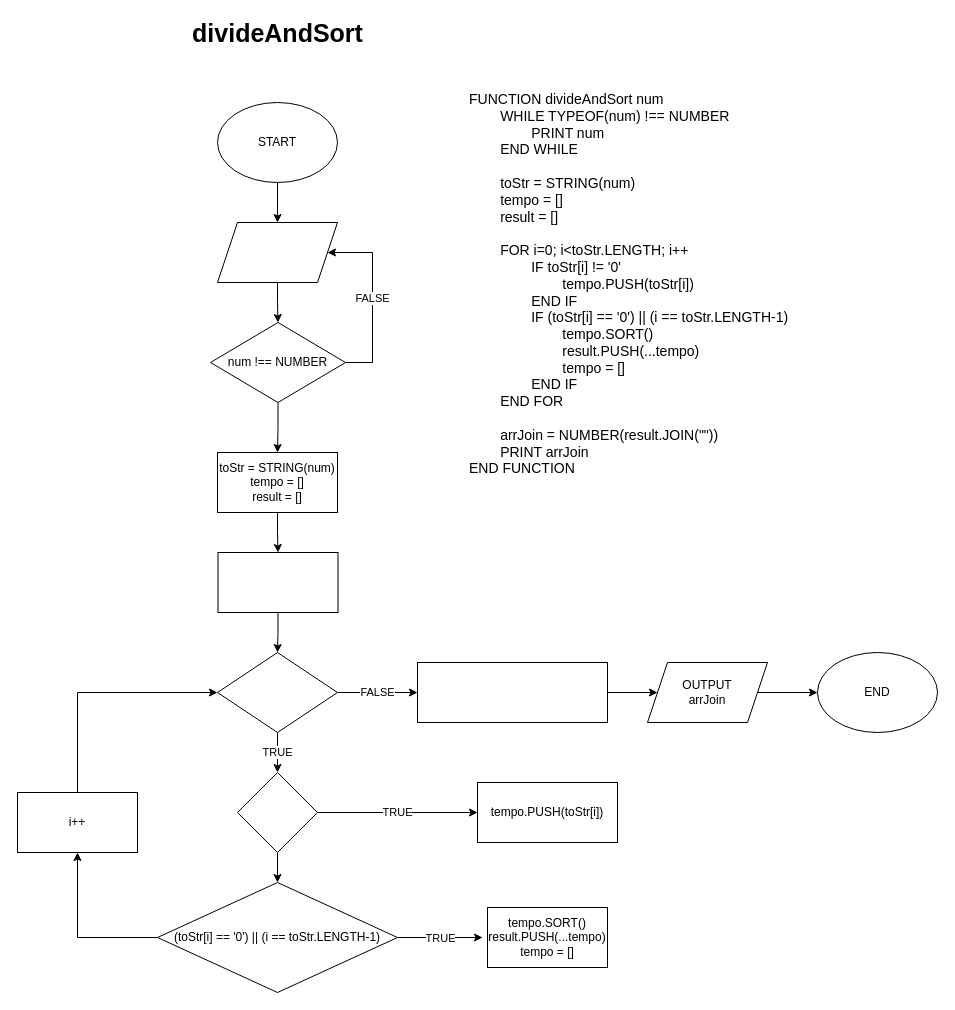
Image size: 955x1010. Some labels were removed from this diagram. Here are the shapes that lost their labels. From the top down, the centre of each, then its label:
pixel 277 252: INPUT num
pixel 277 582: i = 0
pixel 277 692: i < toStr.LENGTH
pixel 512 692: arrJoin = NUMBER(result.JOIN(""))
pixel 277 812: toStr[i] != '0'
